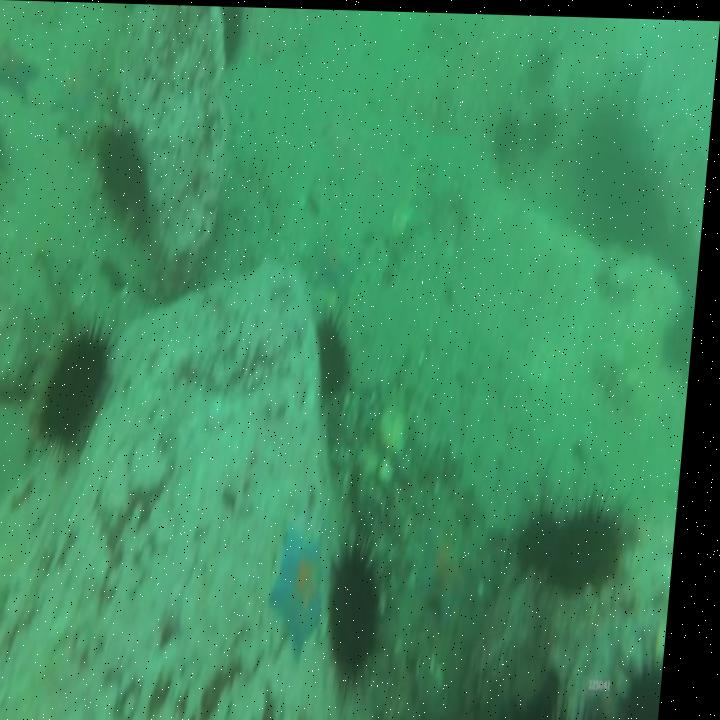echinus: (34, 311, 121, 460), (329, 521, 401, 691), (555, 482, 634, 592), (91, 118, 158, 219), (527, 667, 626, 720), (618, 634, 677, 720), (314, 306, 365, 405), (521, 497, 573, 580), (662, 302, 700, 383), (521, 37, 562, 98), (491, 100, 529, 162), (216, 5, 250, 74), (529, 92, 565, 154), (0, 116, 14, 200)
starfish: (277, 514, 345, 659), (419, 515, 482, 616), (39, 53, 105, 125), (0, 34, 48, 106), (302, 235, 356, 289)
